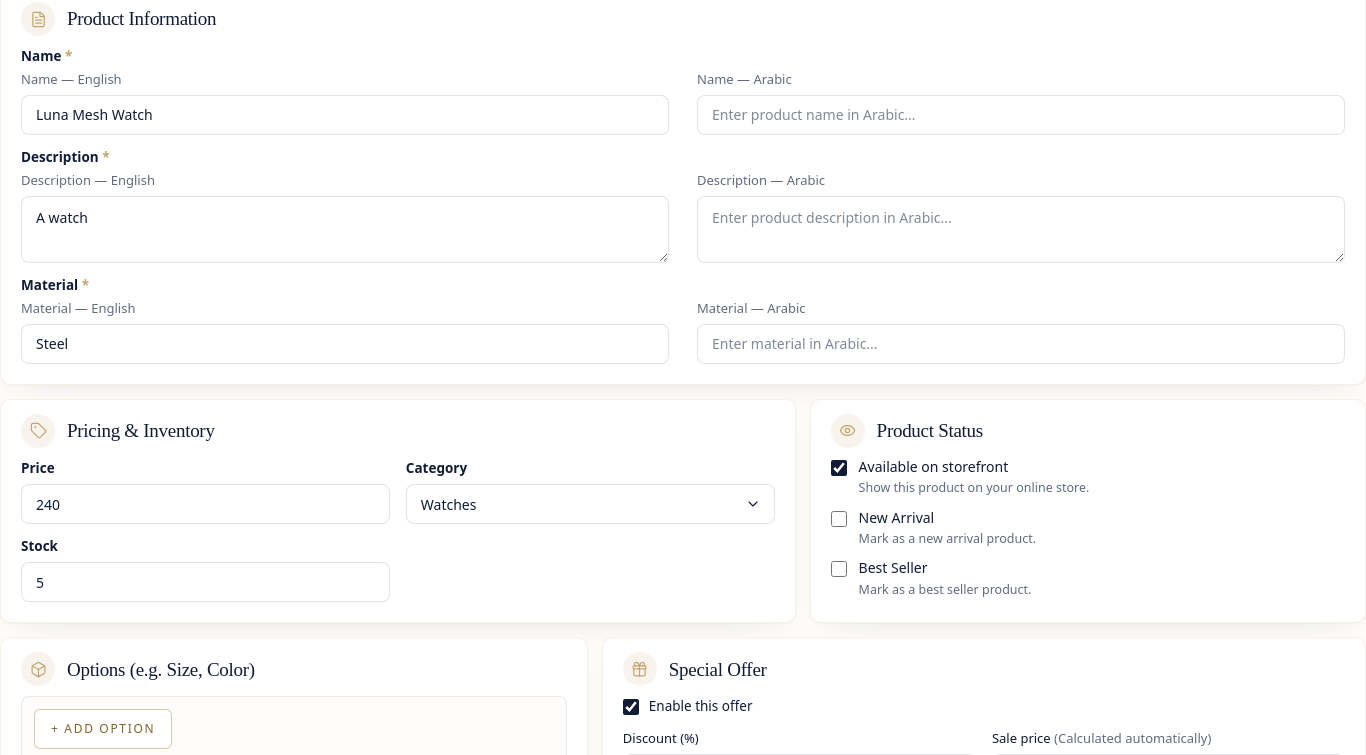
ProductForm — Special Offer: discount % → calculated sale price › follows the regular price field too: ₪185 at 15% → ₪157.25
Replace the text in the number field labelled "Price" with "185". click: [205, 504]
box: [21, 484, 390, 524]
(page scrolled)
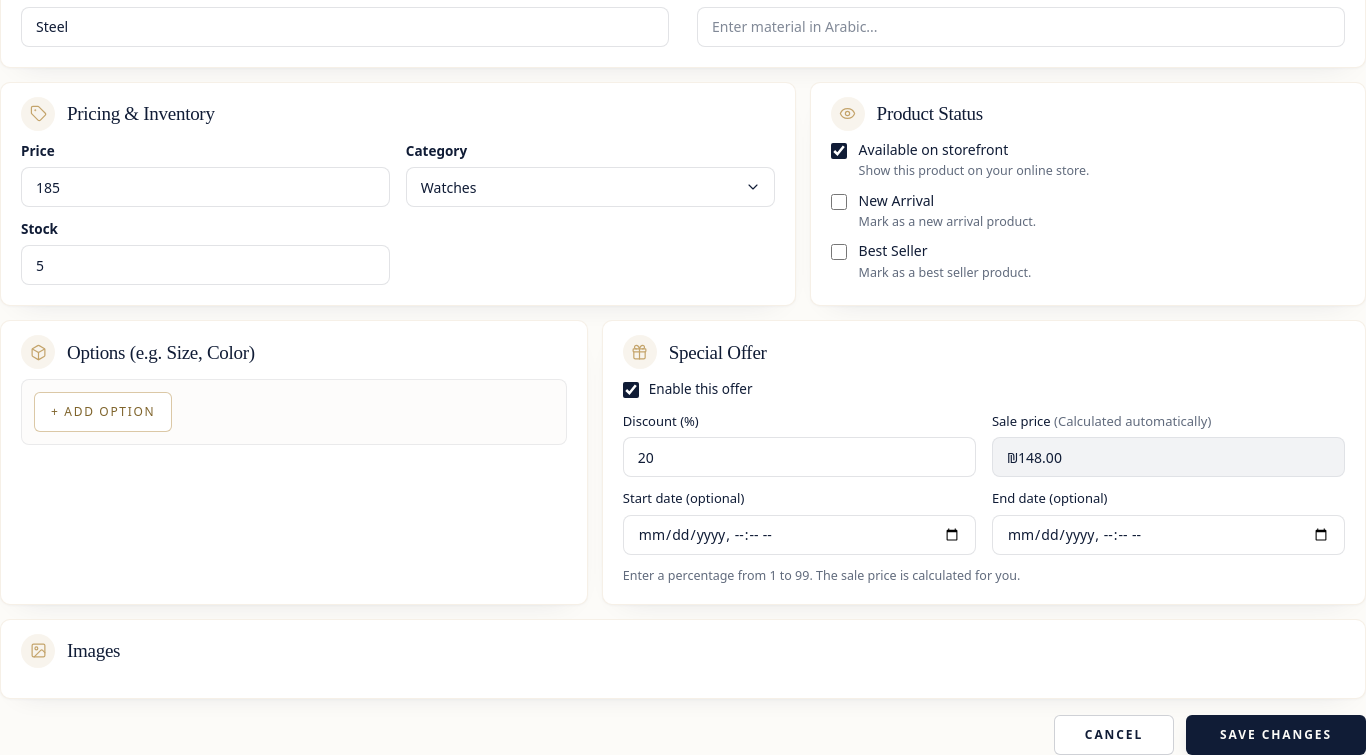
Replace the text in the number field labelled "Discount (%)" with "15". click: [799, 457]
box: [623, 437, 976, 477]
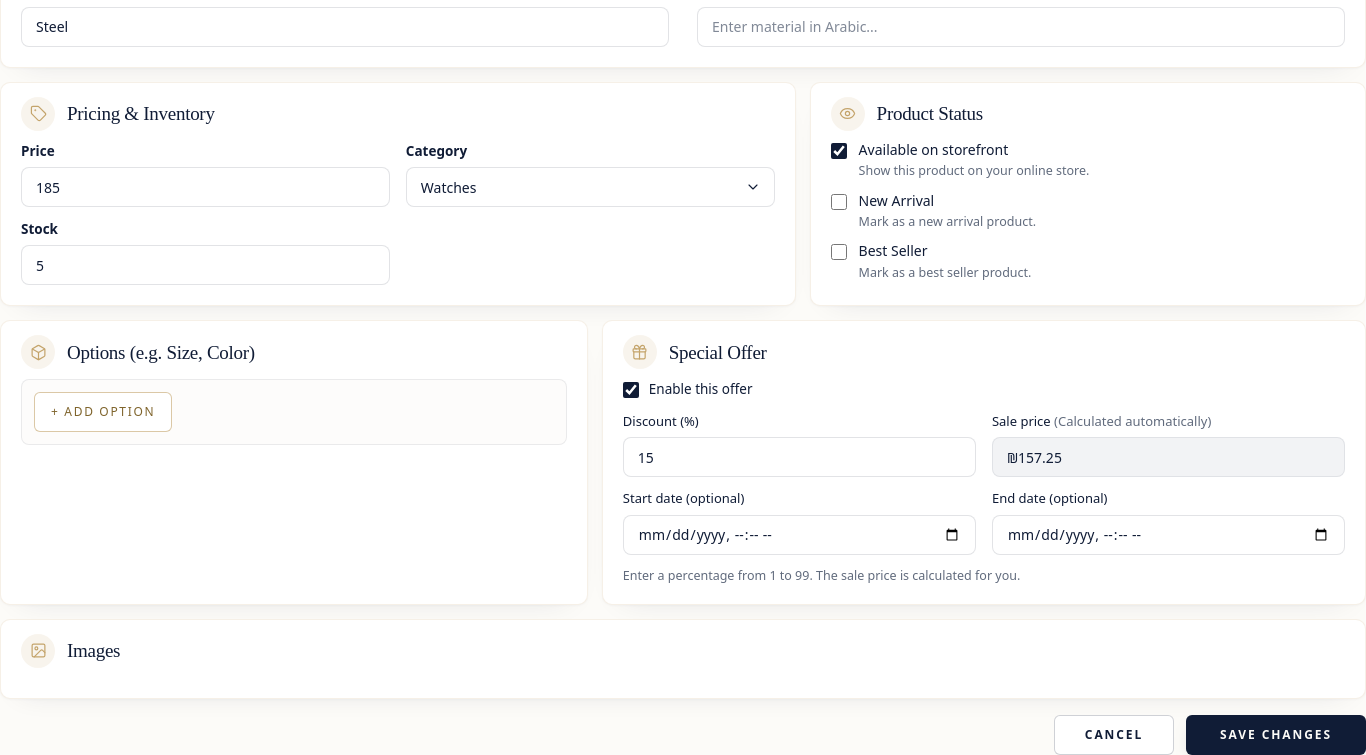
Now the text with test id "product-sale-price" reads "₪157.25", box [1007, 448, 1062, 467]
